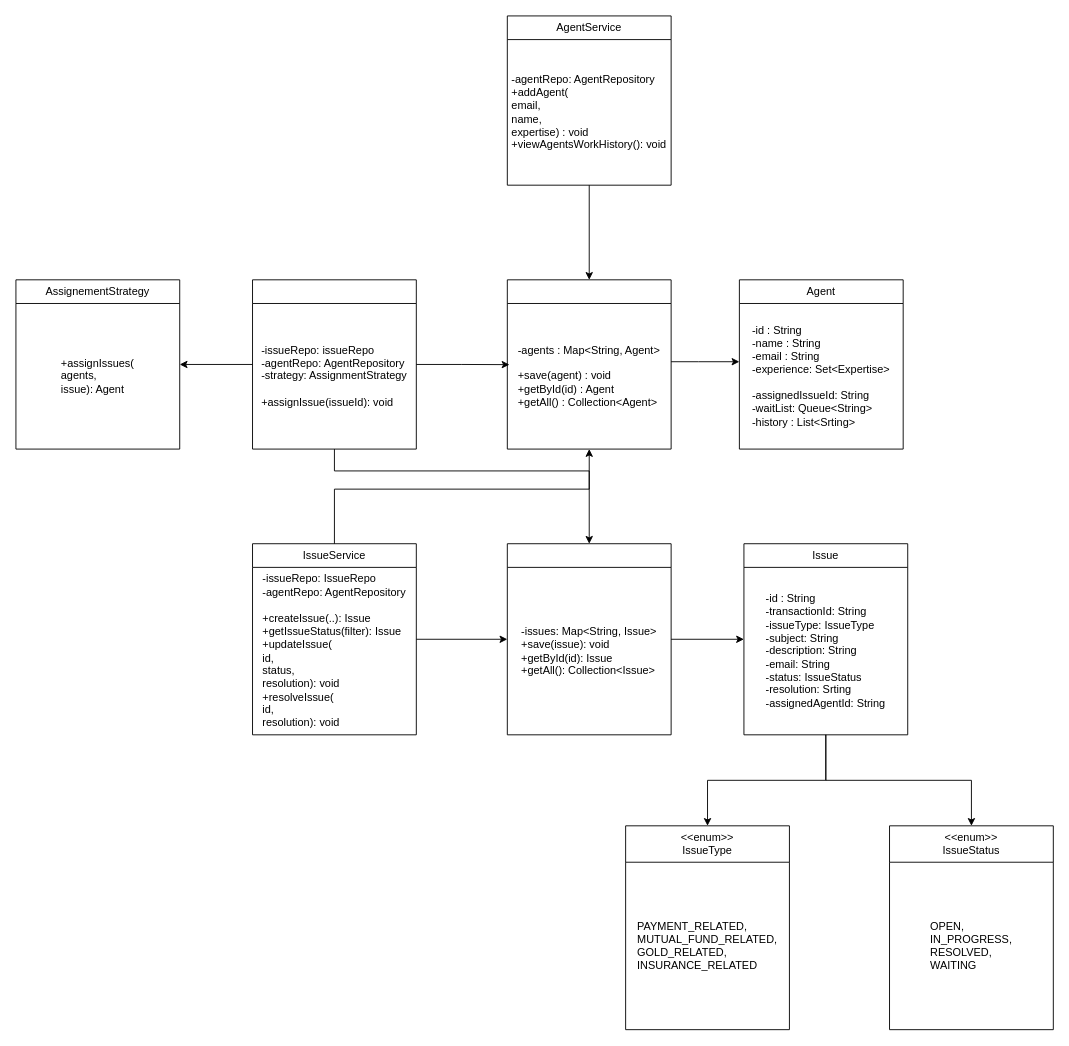
The diagram is 1069 pixels wide and 1046 high, and some of its shapes have lost their labels. The shapes that lost their labels are listed below. From the top down, each one's box as (x1, y1, x2, y2) in pixels, then its label:
(252, 279, 416, 449): AssignementService
(506, 279, 671, 449): AgentRepository
(506, 543, 671, 735): IssueRepo
